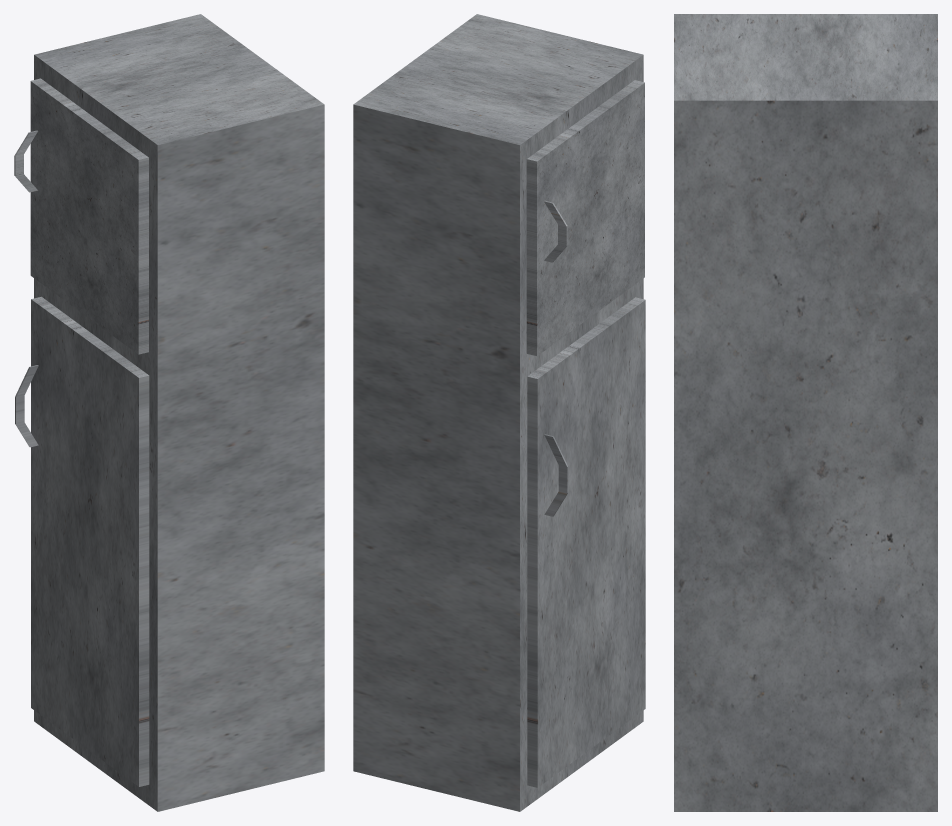
The model's file is geladeira.fbx.
3 renders of one model, left to right at view 1: azimuth 30°, elevation 25°; view 2: azimuth 150°, elevation 25°; view 3: azimuth 270°, elevation 25°, orthographic. The views are drawn at different scales.
Visible parts, largest first — view 1: Porta 1; view 2: Porta 1; view 3: Porta 1.
Part boxes in pixels (x1,y1,x2,y2): Porta 1: (14,14,324,811); Porta 1: (353,14,645,811); Porta 1: (674,14,937,811).
Bounding box in the file's own units: 42.75 × 136 × 45.81.
